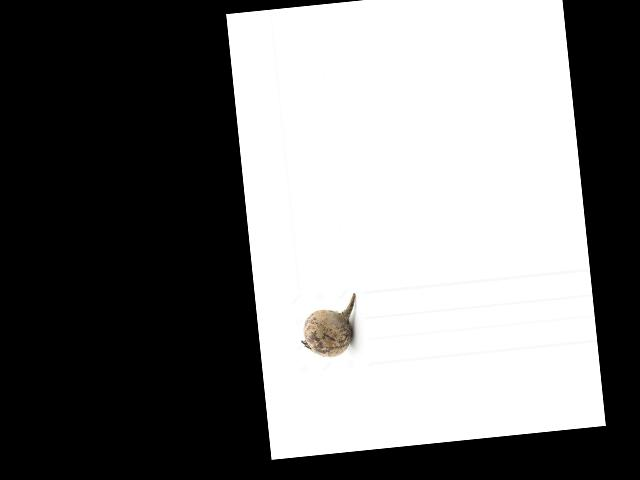beet: (297, 293, 361, 360)
